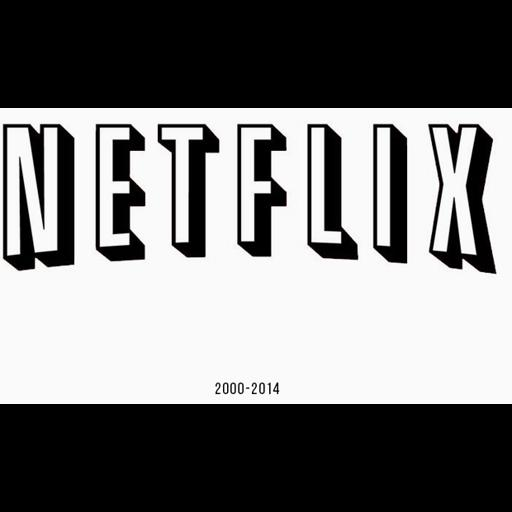Netflix: (0, 108, 512, 404)
